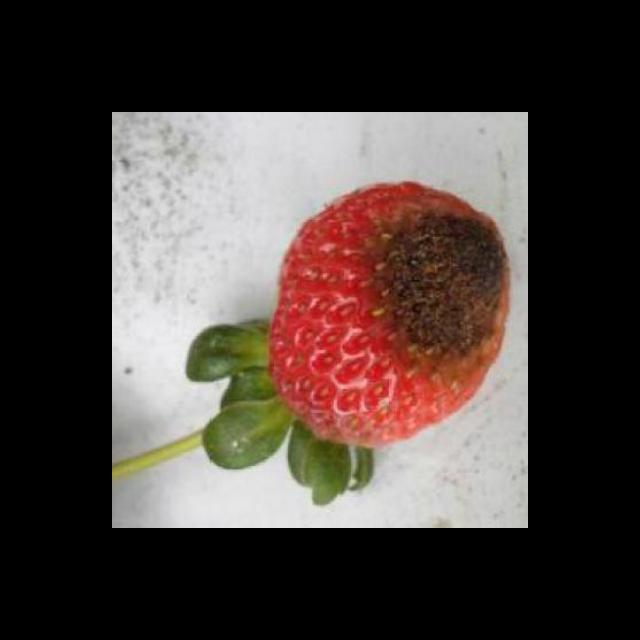Anthracnose Fruit Rot: (345, 196, 513, 392)
